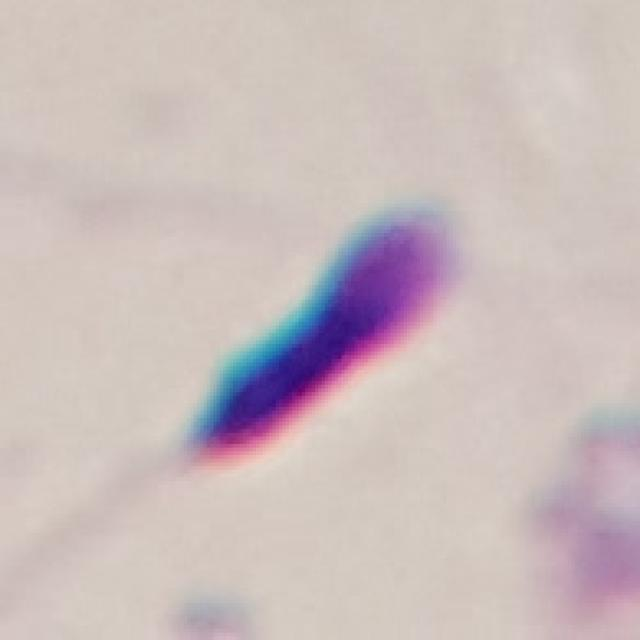abnormal sperm: (87, 202, 460, 519)
